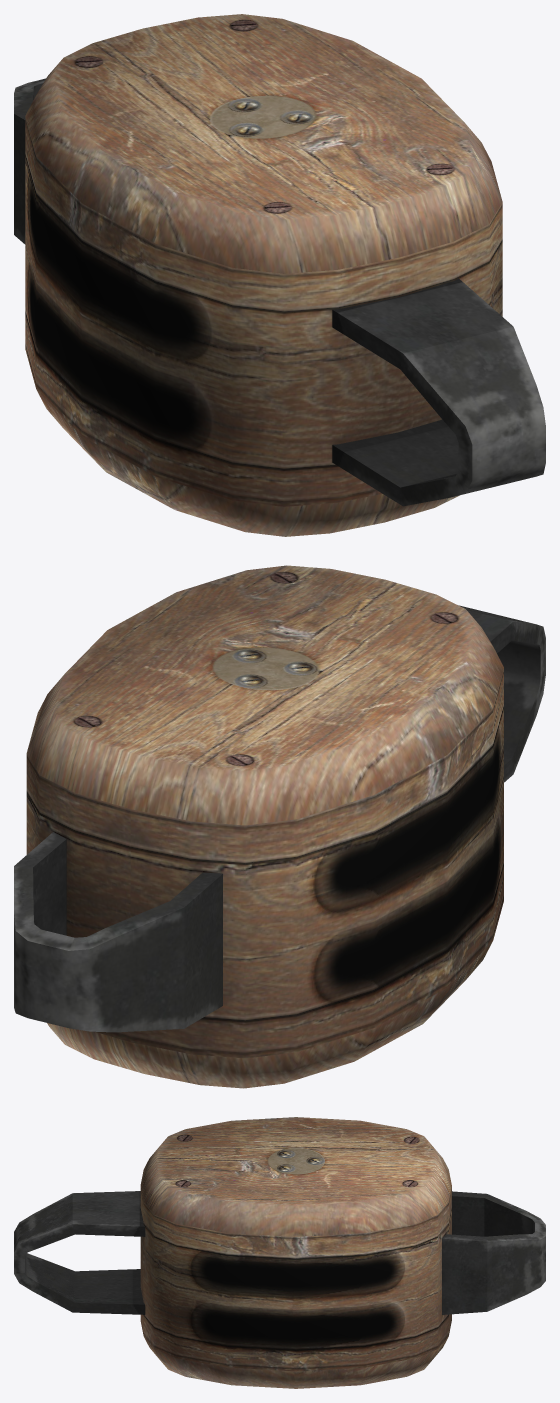
File: Pulley 4.fbx
3 renders of one model, top to bottom at view 1: azimuth 30°, elevation 25°; view 2: azimuth 150°, elevation 25°; view 3: azimuth 270°, elevation 25°, orthographic. The views are drawn at different scales.
Parts seen in each view (by area): view 1: block 2 sheave; view 2: block 2 sheave; view 3: block 2 sheave.
Part boxes in pixels (bbox=[...]): block 2 sheave: bbox=[14, 14, 545, 536]; block 2 sheave: bbox=[14, 565, 545, 1088]; block 2 sheave: bbox=[14, 1117, 545, 1388].
Bounding box in the file's own units: 22.68 × 49.76 × 18.88.
